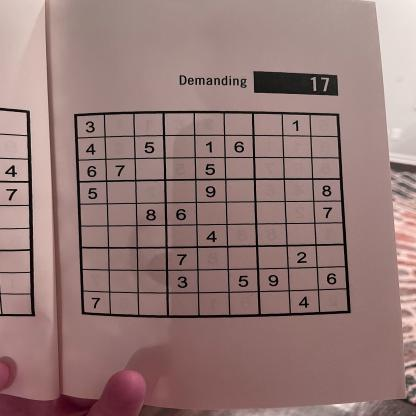sudoku: (68, 107, 355, 326)
